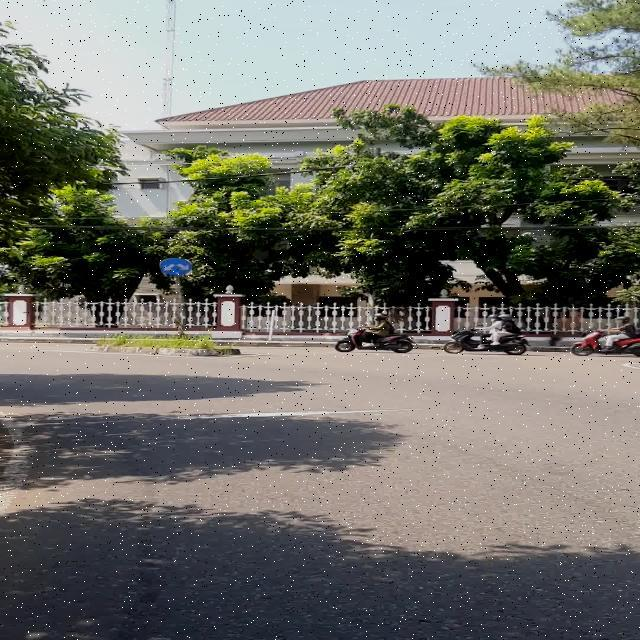Pilih Salah Satu Jalur: (159, 258, 193, 276)
